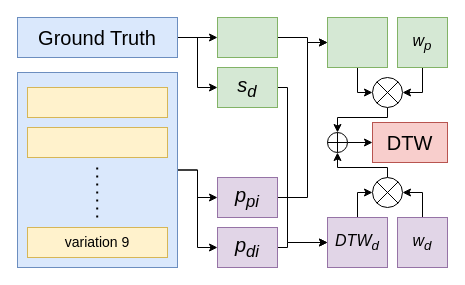
This 465x285 diagram has some shape labels left out. Each missing label, with the centre of its shape:
DTW p: (357,42)
s p: (247,37)
variation 1: (97,102)
variation 2: (97,142)
